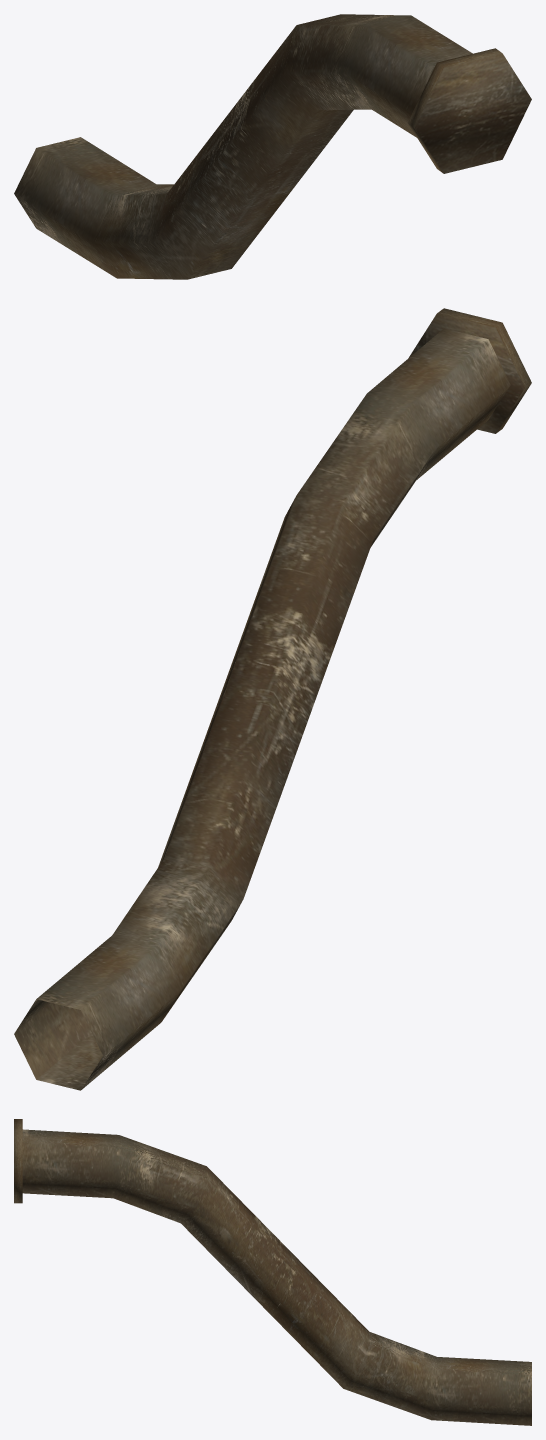
Rendered from small_brown_limp.fbx.
3 renders of one model, top to bottom at view 1: azimuth 30°, elevation 25°; view 2: azimuth 150°, elevation 25°; view 3: azimuth 270°, elevation 25°, orthographic. The views are drawn at different scales.
Visible parts, largest first — view 1: polySurface656; view 2: polySurface656; view 3: polySurface656.
Part boxes in pixels (box(x1,y1,x2,y2)): polySurface656: box(14, 14, 531, 279); polySurface656: box(14, 308, 531, 1090); polySurface656: box(14, 1119, 531, 1425).
Bounding box in the file's own units: 0.3294 × 1.25 × 2.02.
